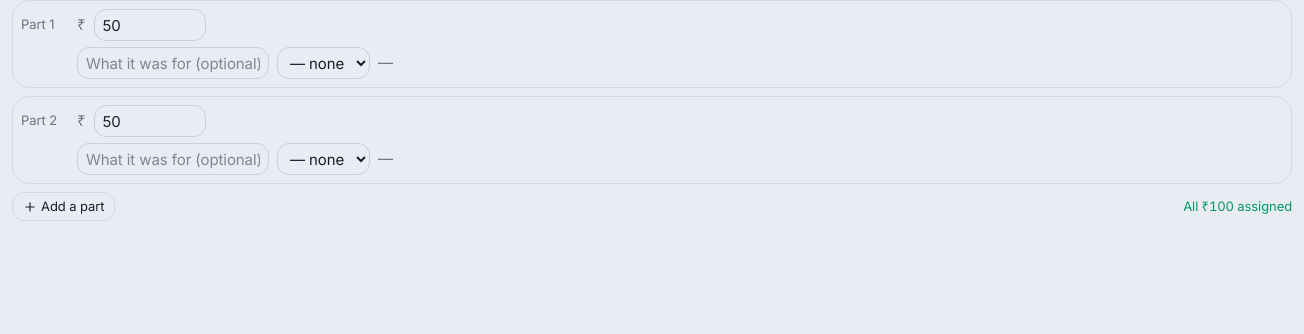
SplitEditor › starts as two halves and can grow beyond two parts
Expected: the text "All ₹100 assigned" is shown, [1183,197,1292,216]
Step 1. Click the button "Add a part" → (64, 207), box [12,192,115,221]
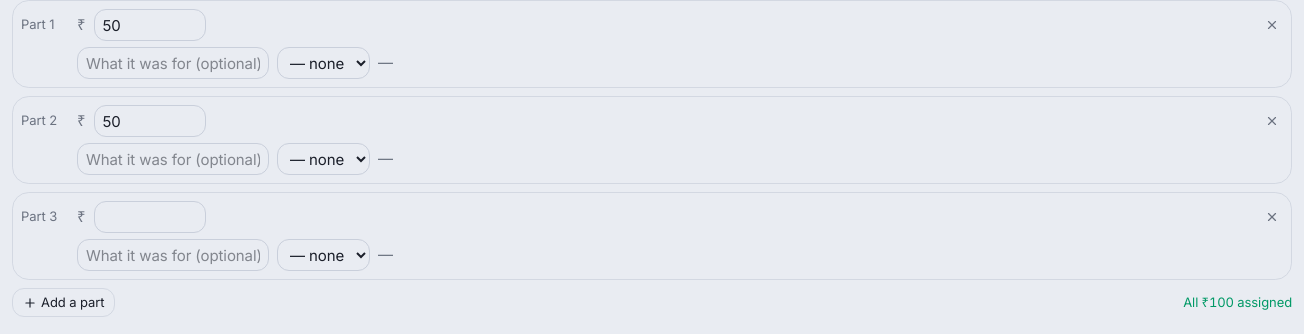
Now the number field named "Part 3 amount" is shown, box [94,201,206,233]
Step 2. Replace the text in the number field named "Part 1 amount" with "30" → (150, 25), box [94,9,206,41]
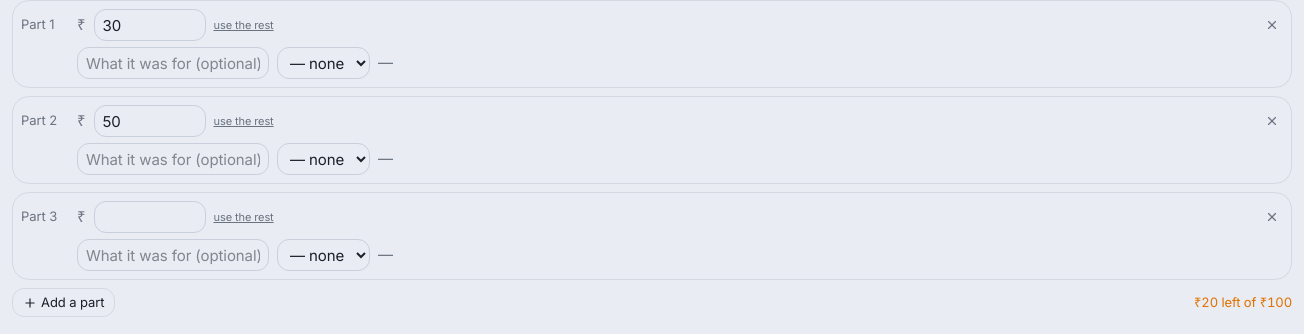
Now the text "₹20 left of ₹100" is shown, box [1194,293,1292,312]
